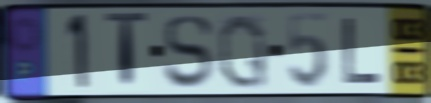1: (64, 11, 91, 94)
5: (287, 10, 333, 92)
L: (341, 15, 385, 86)
Q: (216, 11, 270, 91)
S: (162, 12, 216, 91)
T: (103, 10, 151, 94)
